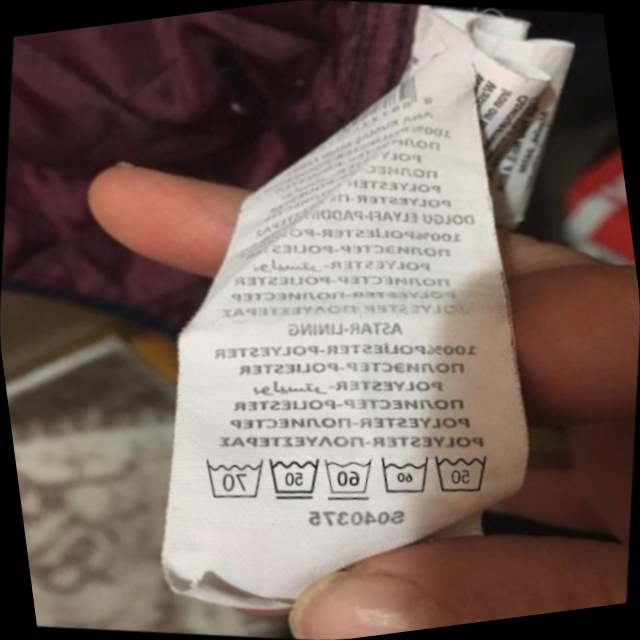50C: (422, 437, 501, 507), (257, 445, 329, 512)
60C: (312, 445, 381, 510), (369, 444, 438, 507)
70C: (191, 446, 270, 511)
